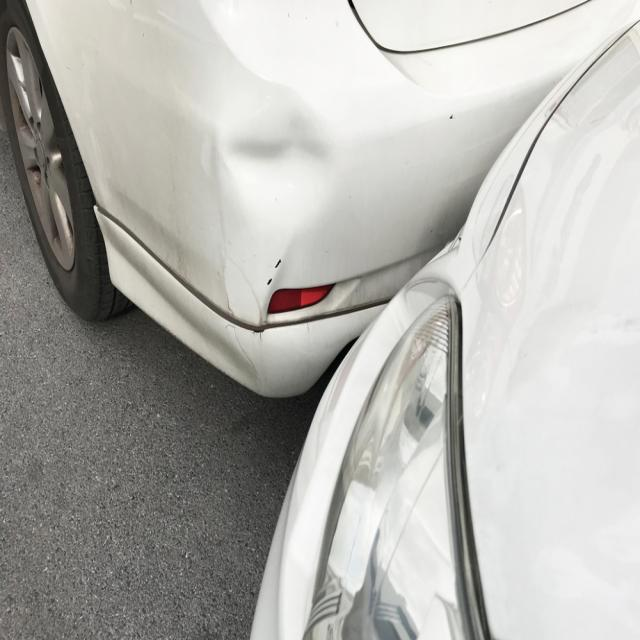dent: (225, 96, 335, 226)
